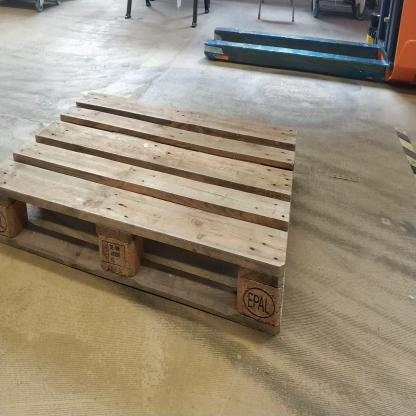BoxFace: (0, 85, 299, 345)
